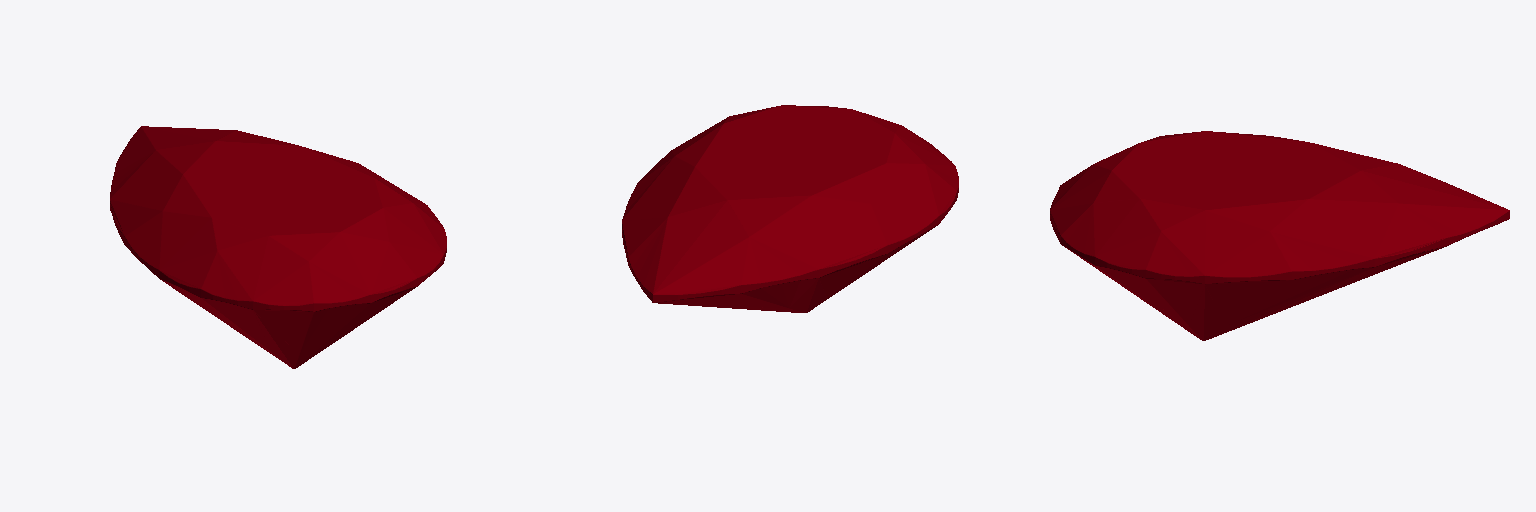
File: Ruby_High_Poly.obj
3 views of the same model, side by side, from view 1: azimuth 30°, elevation 25°; view 2: azimuth 150°, elevation 25°; view 3: azimuth 270°, elevation 25° (orthographic).
Parts seen in each view (by area): view 1: Ruby_-_Pear_Cut_dmesh.001; view 2: Ruby_-_Pear_Cut_dmesh.001; view 3: Ruby_-_Pear_Cut_dmesh.001.
Boxes of the visible parts, x1=… form: Ruby_-_Pear_Cut_dmesh.001: x1=110, y1=126, x2=446, y2=368; Ruby_-_Pear_Cut_dmesh.001: x1=622, y1=105, x2=958, y2=312; Ruby_-_Pear_Cut_dmesh.001: x1=1050, y1=131, x2=1509, y2=340.
Bounding box in the file's own units: 2 × 1.22 × 2.98.